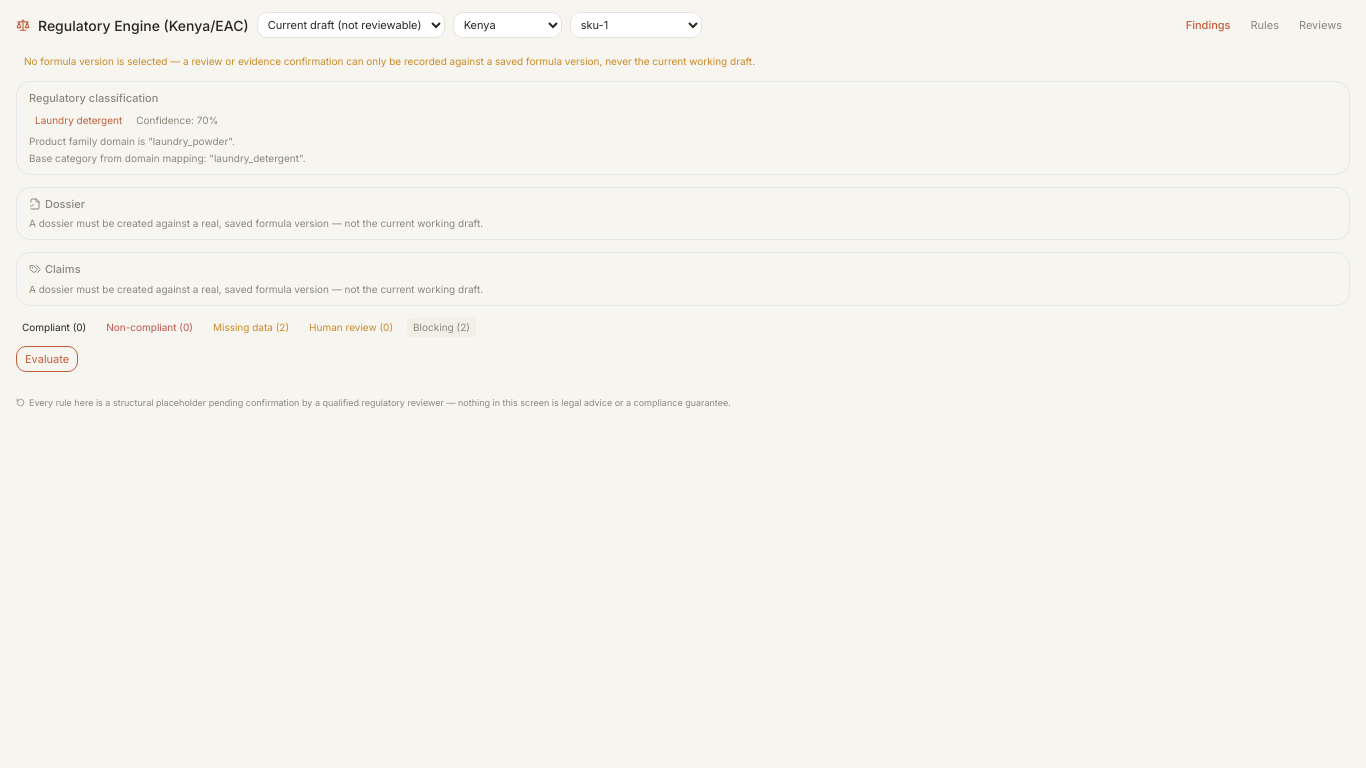
RegulatoryPanel — authorization › disables Save review and shows the unauthorized-role hint once the reviewer role is switched to researcher
expect the text "Laundry detergent" is shown: met, box top-left (29, 110), bottom-right (128, 130)
Select "v1 (chemist_review)" in the 1st dropdown: (351, 25) top-left (257, 12), bottom-right (445, 38)
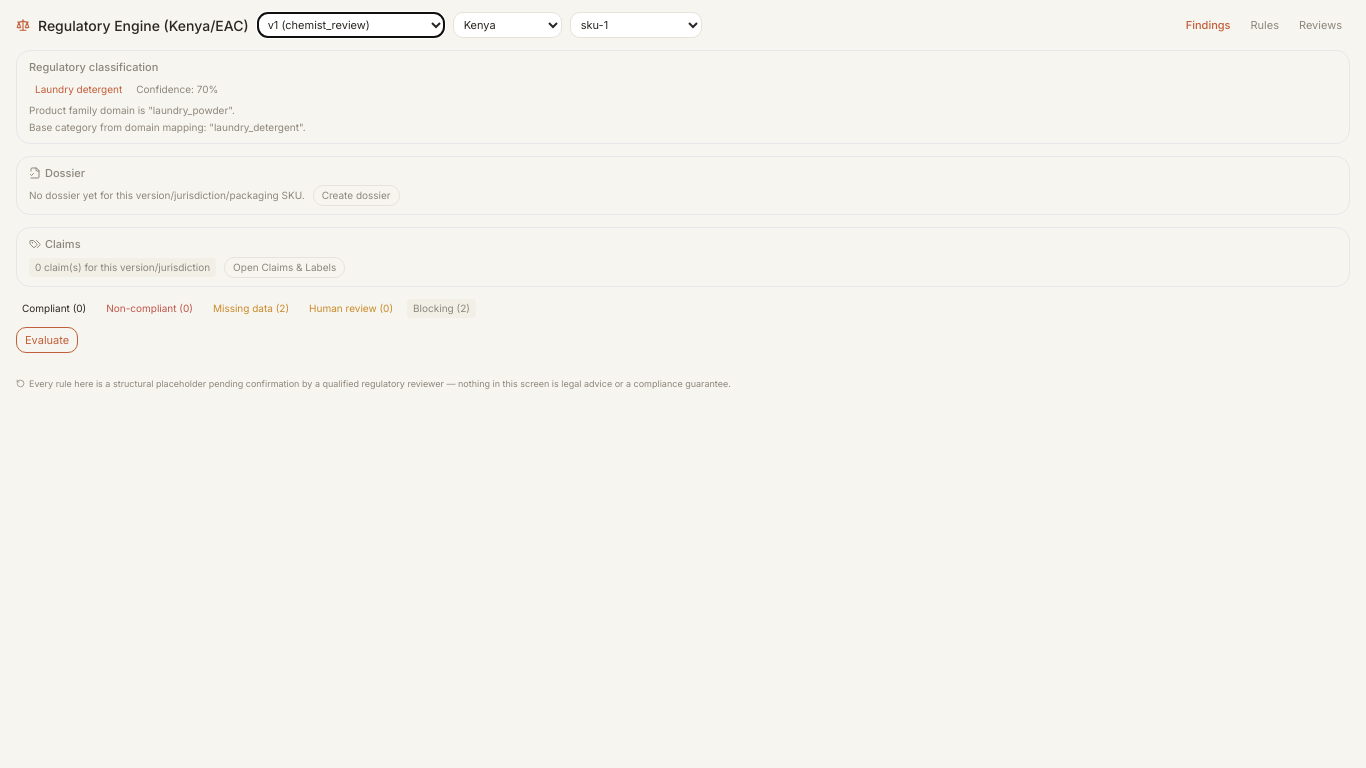
Click the button "Reviews": (1320, 25) top-left (1291, 13), bottom-right (1350, 37)
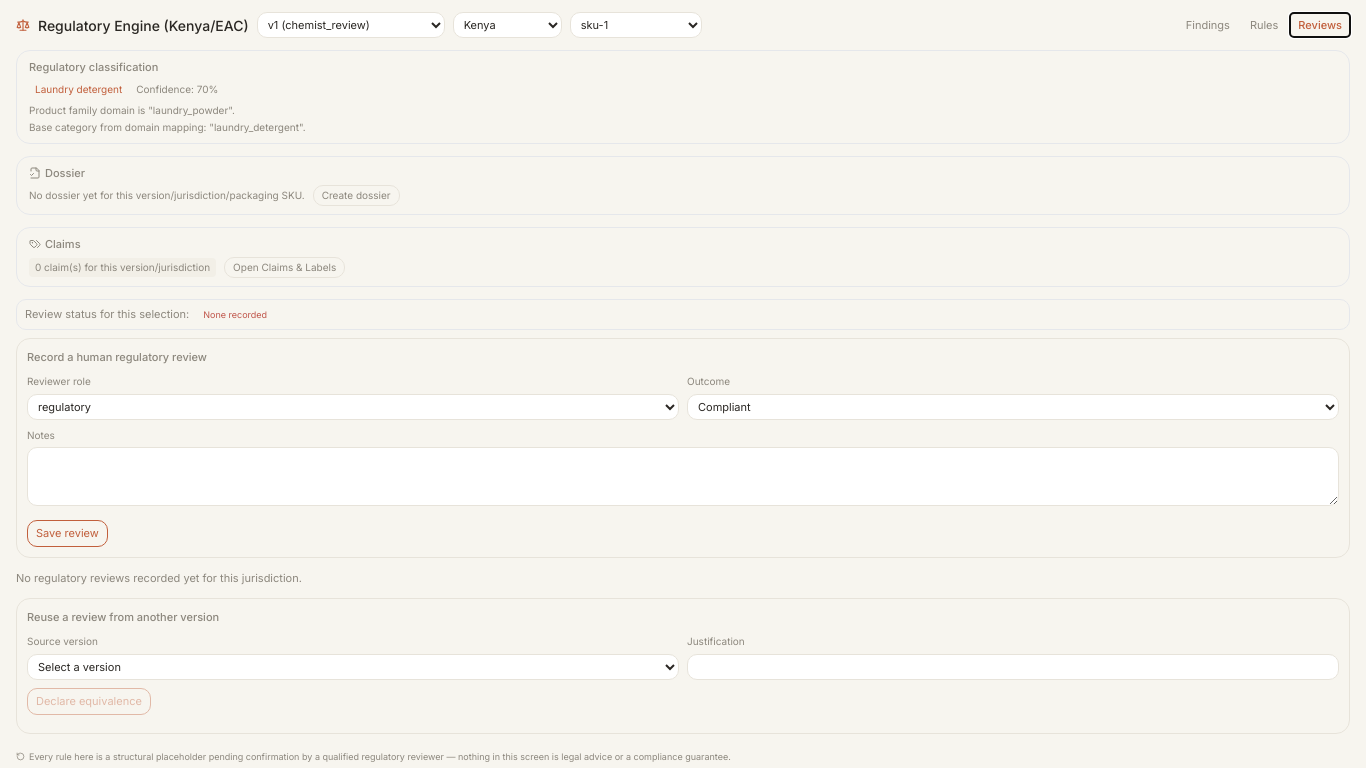
expect the button "Save review" is enabled: met, box top-left (27, 520), bottom-right (108, 546)
Select "researcher" in the dropdown labelled "Reviewer role": (353, 406) top-left (27, 394), bottom-right (679, 420)
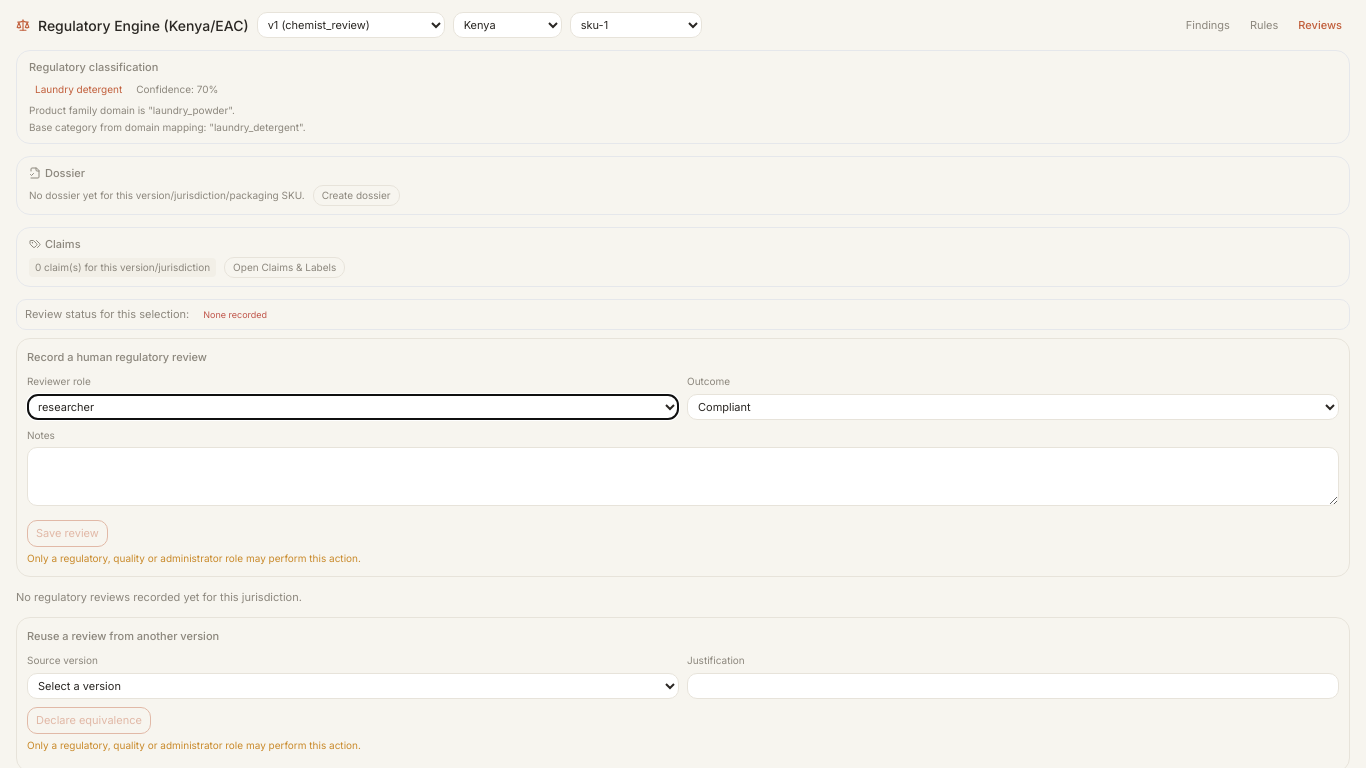
expect the button "Save review" is disabled: met, box top-left (27, 520), bottom-right (108, 546)
expect the text "Only a regulatory, quality or administrator role may perform this action." below "Notes" is shown: met, box top-left (27, 552), bottom-right (361, 564)
